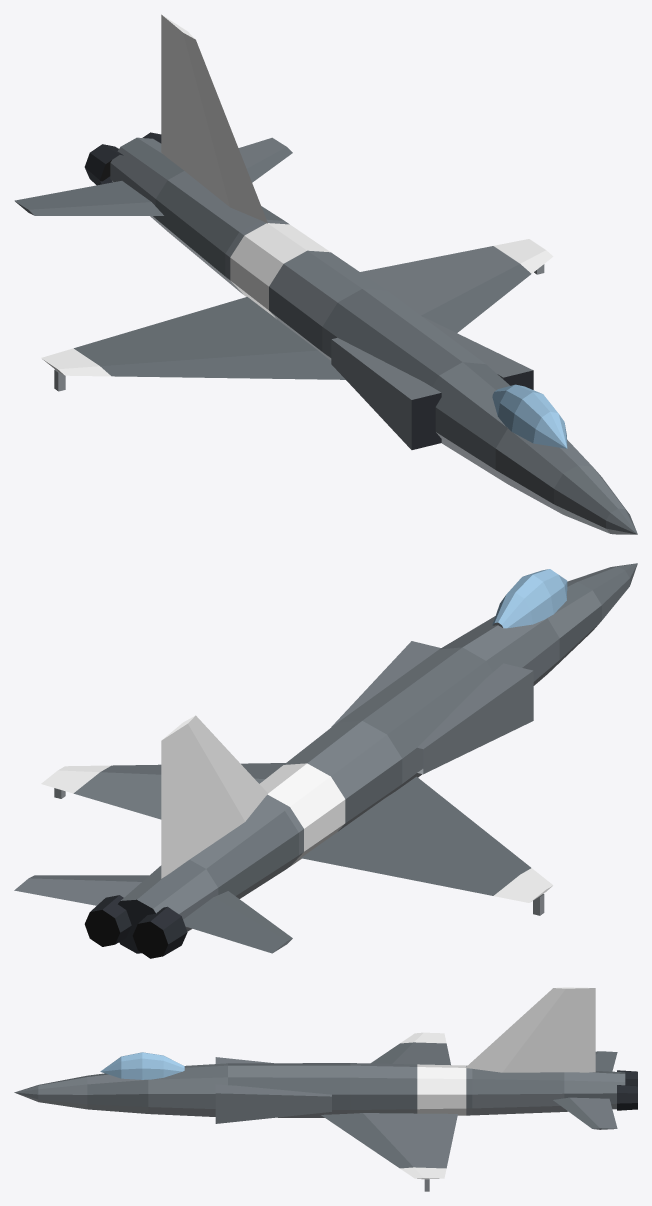
The picture shows the model from 3 angles, top to bottom: view 1: azimuth 30°, elevation 25°; view 2: azimuth 150°, elevation 25°; view 3: azimuth 270°, elevation 25°; orthographic projection. The views are drawn at different scales.
Parts seen in each view (by area): view 1: body; view 2: body; view 3: body.
Part boxes in pixels (left/top/right/bottom): body: left=14, top=14, right=637, bottom=534; body: left=14, top=563, right=637, bottom=958; body: left=14, top=987, right=637, bottom=1191.
Bounding box in the file's own units: 8.13 × 3.43 × 14.75.
